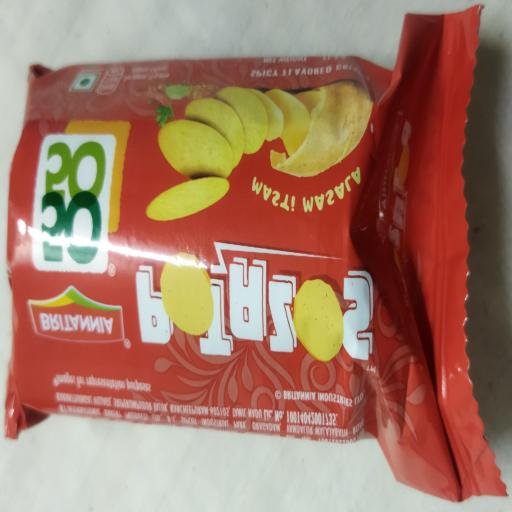potazos: (5, 26, 506, 506)
